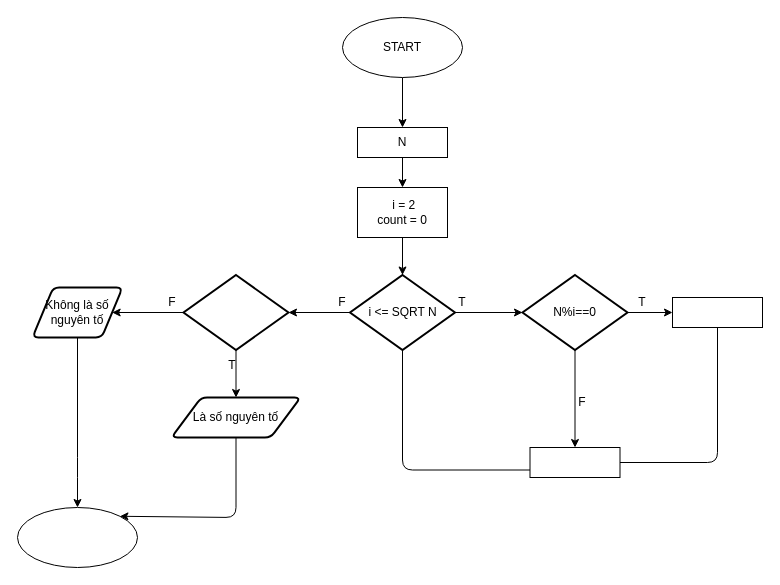
This 780x585 diagram has some shape labels left out. The box of each missing label's shape, as (x1, y1, x2, y2) in pixels:
count ++: (672, 296, 762, 328)
count == 0: (182, 274, 289, 350)
END: (16, 506, 138, 568)
i ++: (529, 446, 620, 478)
